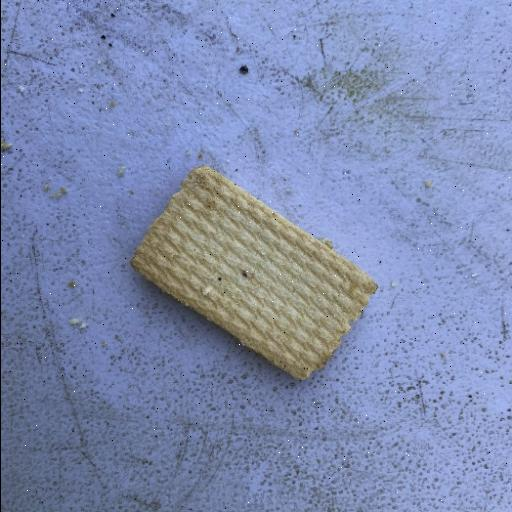Waste: (128, 163, 379, 381)
